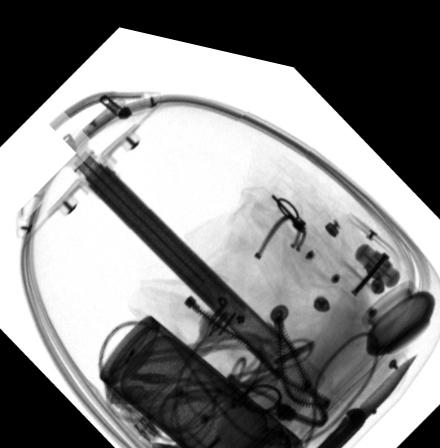Knife: (292, 333, 415, 448)
